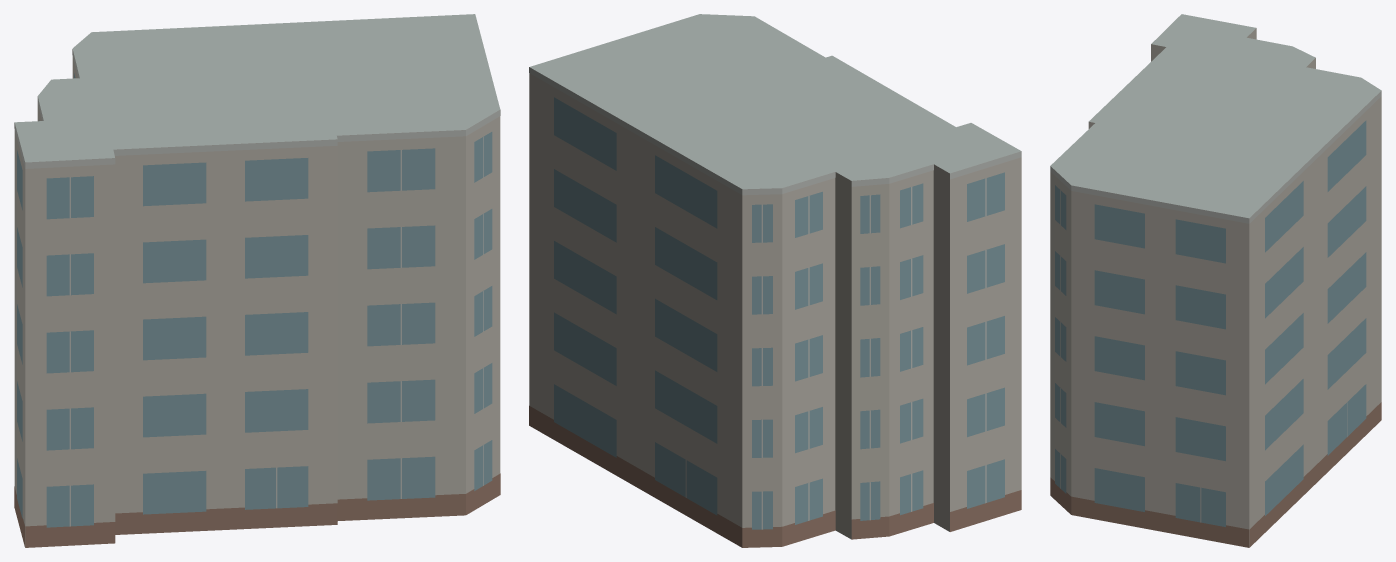
Rendered from survey-upis-32589329.glb.
3 renders of one model, left to right at view 1: azimuth 30°, elevation 25°; view 2: azimuth 150°, elevation 25°; view 3: azimuth 270°, elevation 25°, orthographic. The views are drawn at different scales.
Visible parts, largest first — view 1: survey-upis-32589329.tmp; view 2: survey-upis-32589329.tmp; view 3: survey-upis-32589329.tmp.
Part boxes in pixels (<box>): survey-upis-32589329.tmp: <box>14,14,500,547</box>; survey-upis-32589329.tmp: <box>529,14,1021,547</box>; survey-upis-32589329.tmp: <box>1050,14,1381,547</box>.
Size of the model in its own units: 19.42 by 14.6 by 13.32.
